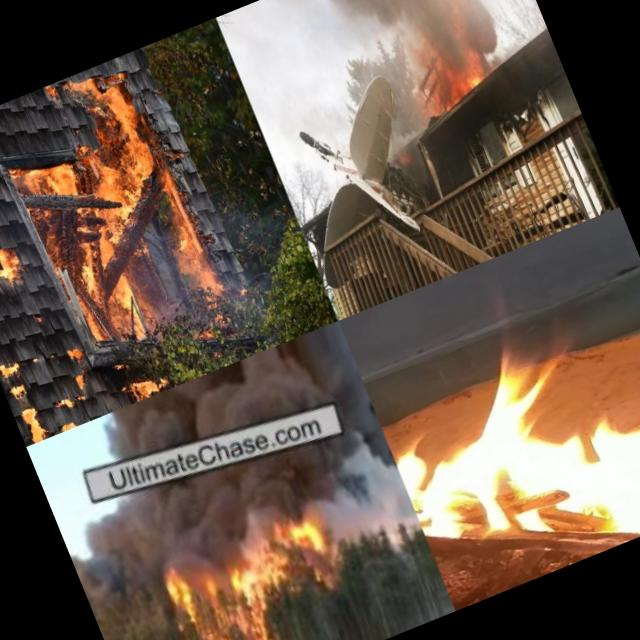fire: (344, 224, 640, 610), (55, 58, 228, 326), (3, 128, 152, 354), (202, 566, 286, 640), (246, 509, 330, 579), (422, 54, 502, 115), (0, 356, 49, 446), (152, 562, 198, 622), (0, 230, 35, 301), (126, 363, 172, 402), (48, 388, 76, 416), (62, 338, 88, 368), (70, 367, 92, 393), (56, 414, 81, 432)
smoke: (72, 450, 311, 594), (313, 0, 508, 104), (290, 420, 421, 562)
